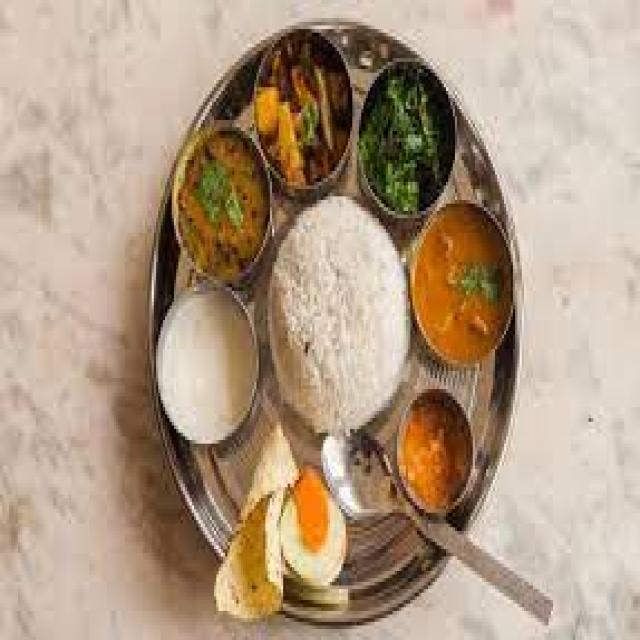curd: (150, 272, 263, 453)
dal: (410, 203, 511, 361)
rice: (268, 205, 416, 430)
sambar-rasam: (393, 392, 478, 513)
sweet: (394, 393, 478, 507)
